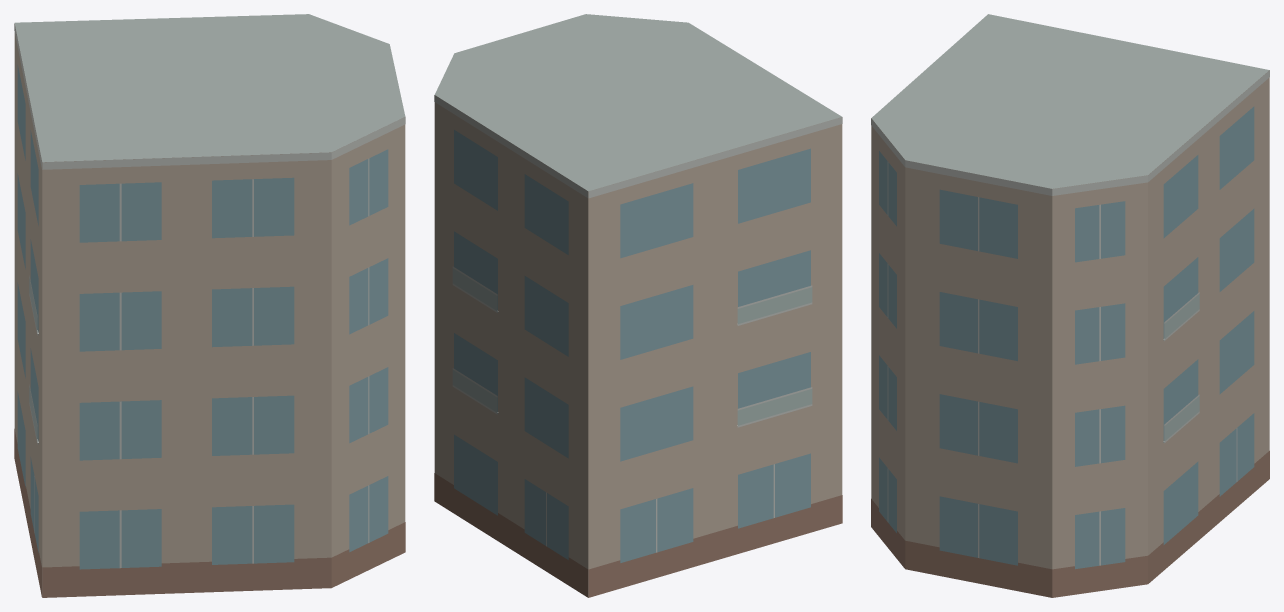
Rendered from survey-upis-32972123.glb.
3 views of the same model, side by side, from view 1: azimuth 30°, elevation 25°; view 2: azimuth 150°, elevation 25°; view 3: azimuth 270°, elevation 25° (orthographic). The views are drawn at different scales.
Parts seen in each view (by area): view 1: survey-upis-32972123.tmp; view 2: survey-upis-32972123.tmp; view 3: survey-upis-32972123.tmp.
Part boxes in pixels (left/top/right/bottom): survey-upis-32972123.tmp: left=14, top=14, right=405, bottom=597; survey-upis-32972123.tmp: left=434, top=14, right=842, bottom=597; survey-upis-32972123.tmp: left=871, top=14, right=1269, bottom=597.
Bounding box in the file's own units: 12.76 × 13.9 × 12.28.
